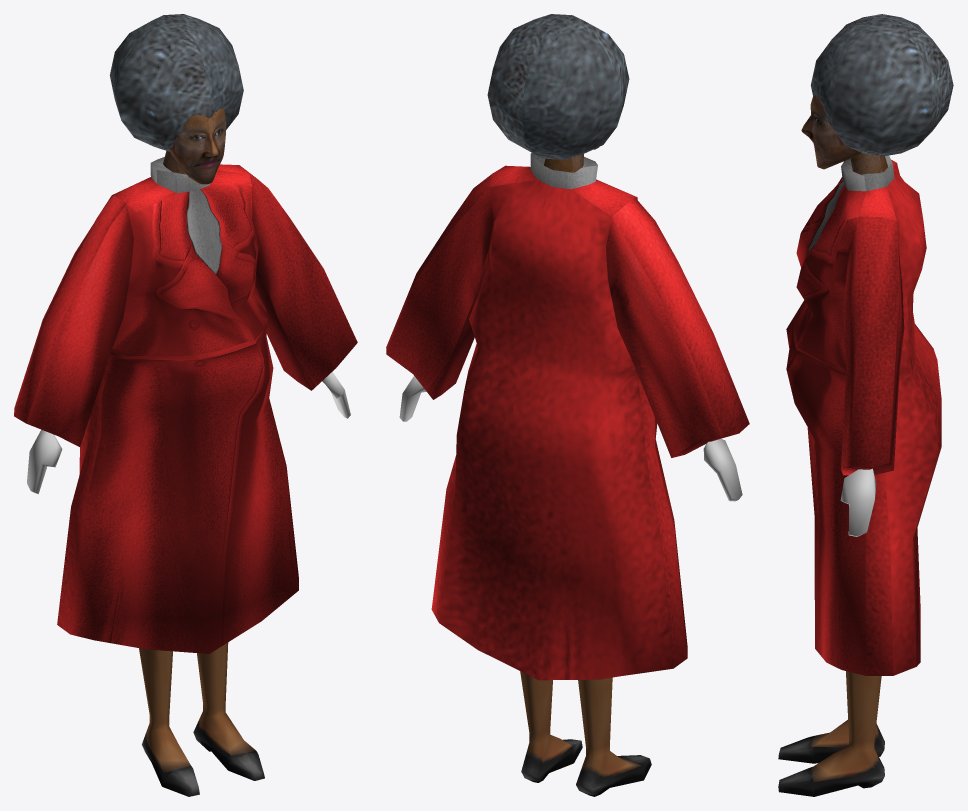
The model's file is beatriceModel.fbx.
3 renders of one model, left to right at view 1: azimuth 30°, elevation 25°; view 2: azimuth 150°, elevation 25°; view 3: azimuth 270°, elevation 25°, orthographic. The views are drawn at different scales.
Visible parts, largest first — view 1: beatriceModel; view 2: beatriceModel; view 3: beatriceModel.
Part boxes in pixels (x1,y1,x2,y2): beatriceModel: (14, 14, 357, 796); beatriceModel: (386, 14, 749, 796); beatriceModel: (778, 14, 953, 796).
Size of the model in its own units: 286 by 598 by 126.
